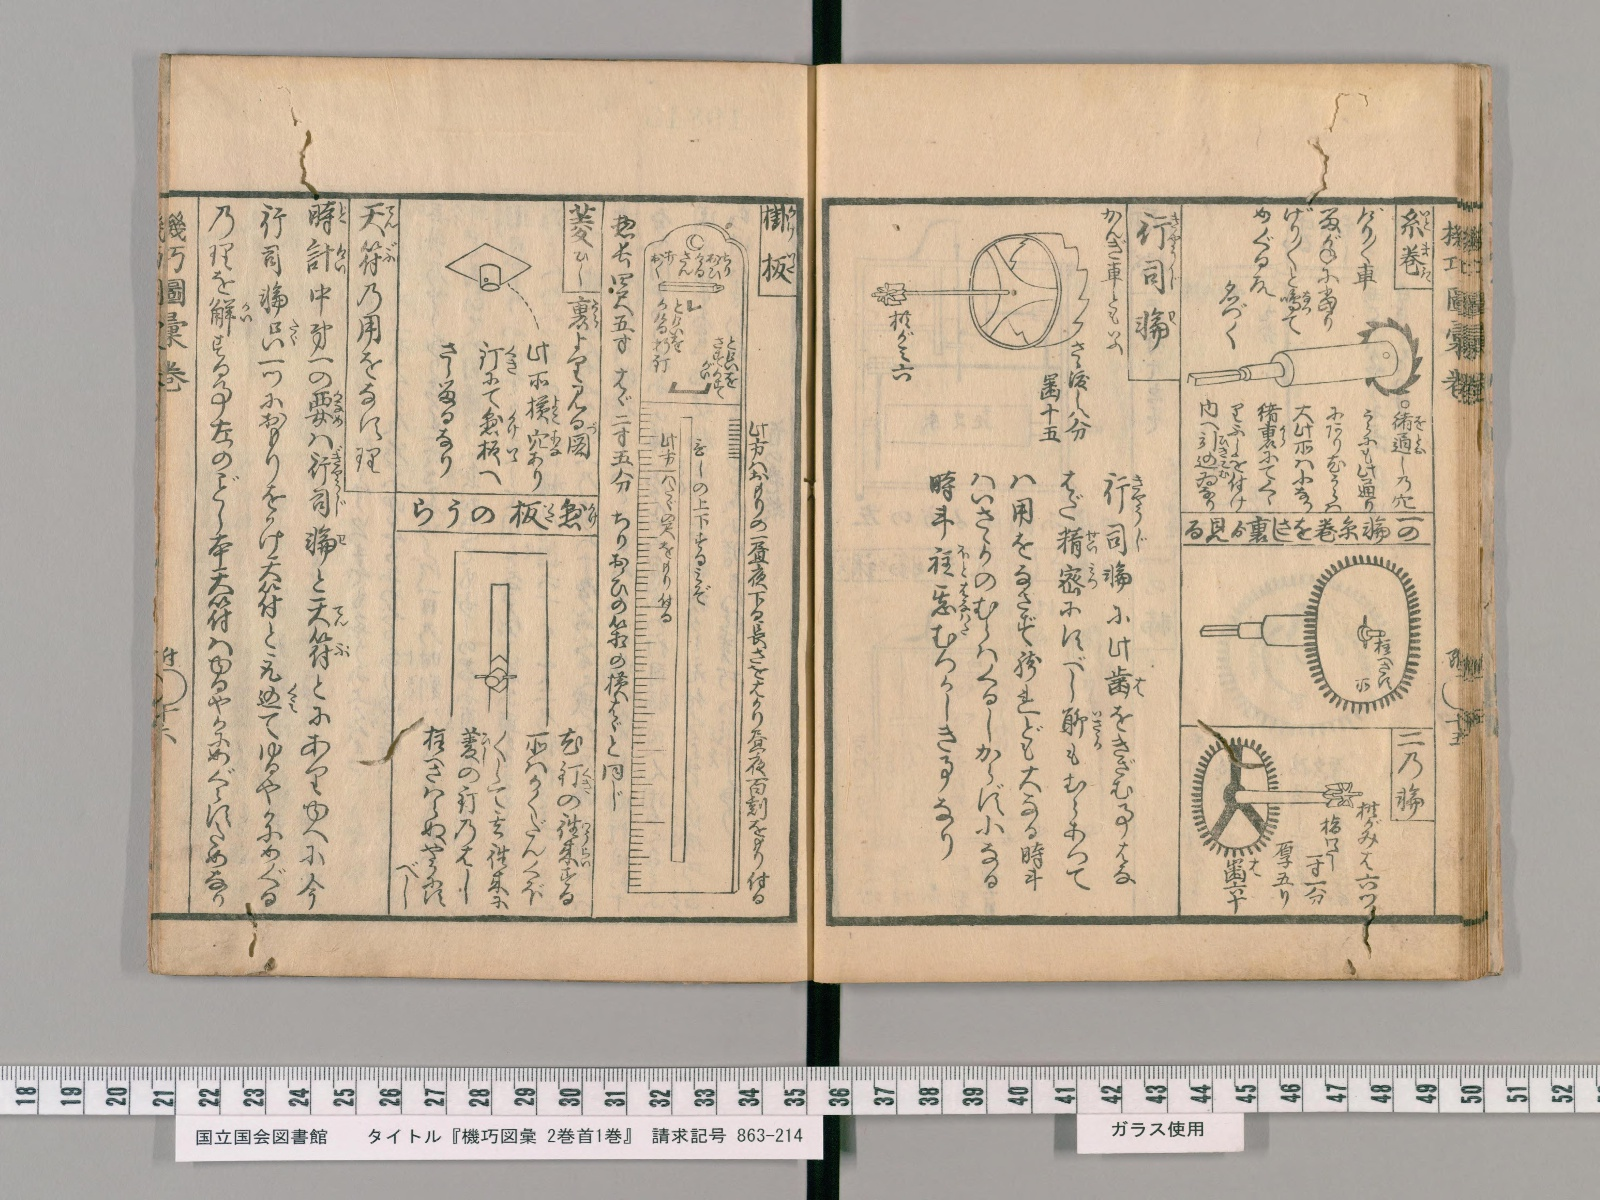1_overall: (149, 57, 1506, 988)
2_handwritten: (295, 199, 339, 913), (202, 203, 239, 911), (256, 202, 289, 908), (601, 214, 637, 812), (969, 471, 1007, 891), (1058, 471, 1095, 892), (1010, 473, 1044, 892), (1105, 470, 1136, 887), (927, 469, 959, 860), (745, 420, 770, 908), (351, 200, 388, 476), (1183, 517, 1395, 543), (420, 725, 449, 911), (519, 731, 549, 908), (454, 725, 483, 905), (556, 729, 585, 908), (486, 730, 513, 913), (566, 294, 593, 460), (1099, 207, 1128, 355), (524, 342, 552, 492), (477, 339, 505, 487), (433, 339, 459, 480), (1279, 204, 1305, 337), (1317, 209, 1344, 332), (1063, 339, 1094, 442), (1353, 802, 1382, 908), (1194, 398, 1220, 513), (1390, 408, 1417, 511), (1249, 205, 1277, 299), (1323, 405, 1347, 511), (1293, 405, 1317, 511), (1256, 401, 1280, 505), (1356, 407, 1380, 511), (1226, 405, 1249, 513), (1354, 205, 1380, 296), (887, 309, 916, 383), (1267, 839, 1298, 908), (1218, 279, 1243, 354), (1221, 858, 1249, 916), (1301, 852, 1329, 908), (1039, 372, 1061, 442), (1319, 812, 1342, 874), (394, 861, 420, 911), (1395, 516, 1426, 542)
3_typography: (1134, 211, 1170, 355), (1395, 731, 1427, 821), (409, 497, 496, 529), (568, 202, 598, 291), (761, 203, 789, 289), (1396, 205, 1424, 280), (508, 498, 544, 533), (557, 498, 586, 532)
4_illustration: (626, 221, 751, 895), (1191, 555, 1426, 716), (866, 229, 1087, 355), (1189, 737, 1366, 860), (1198, 314, 1421, 405), (449, 550, 552, 729), (443, 239, 544, 332)
